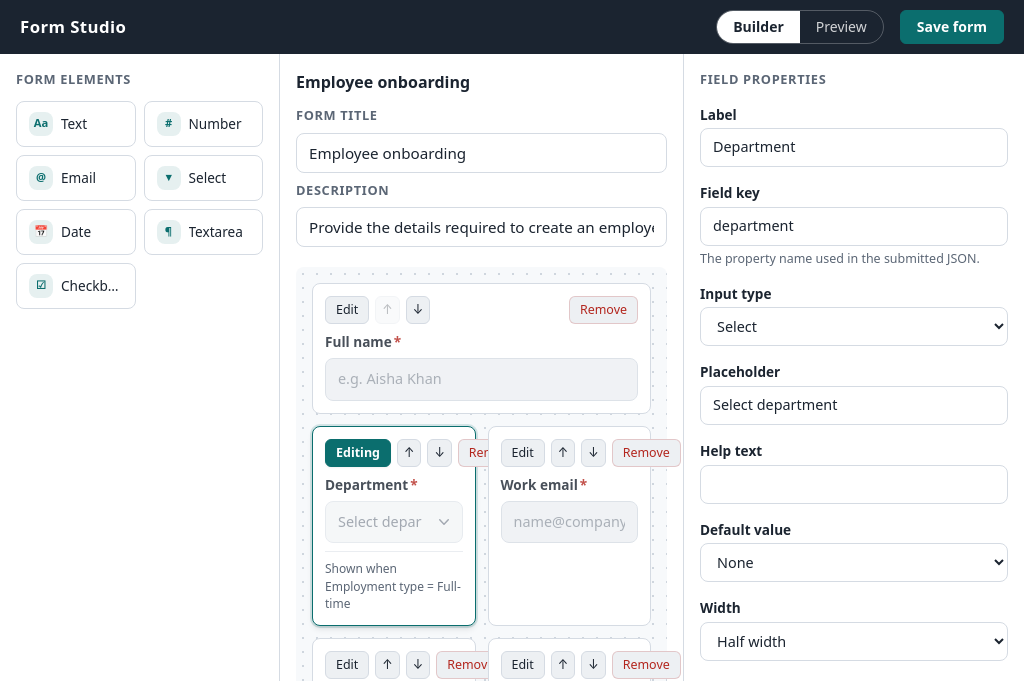
Test: App: builder › adds a field, edits it, and the canvas updates immediately
Click the button with aria-label "Add Number field" at (203, 124), box [144, 100, 263, 146]
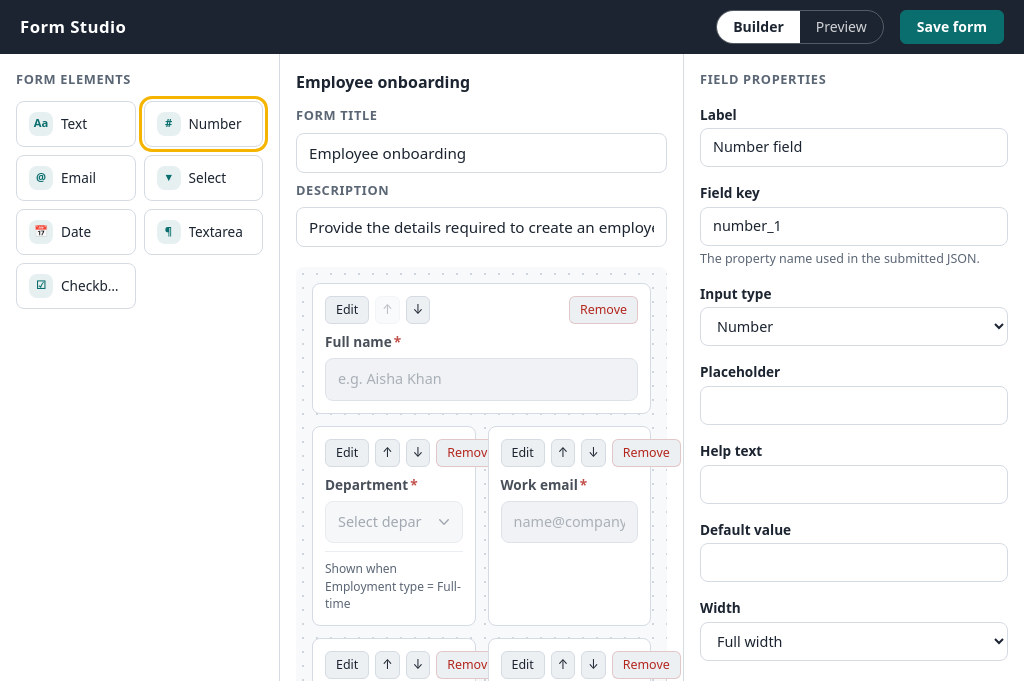
Now the field labelled "Label" holds "Number field"
Now the field labelled "Field key" holds "number_1", box [700, 207, 1008, 246]
Clear the field labelled "Label" at (854, 148), box [700, 128, 1008, 167]
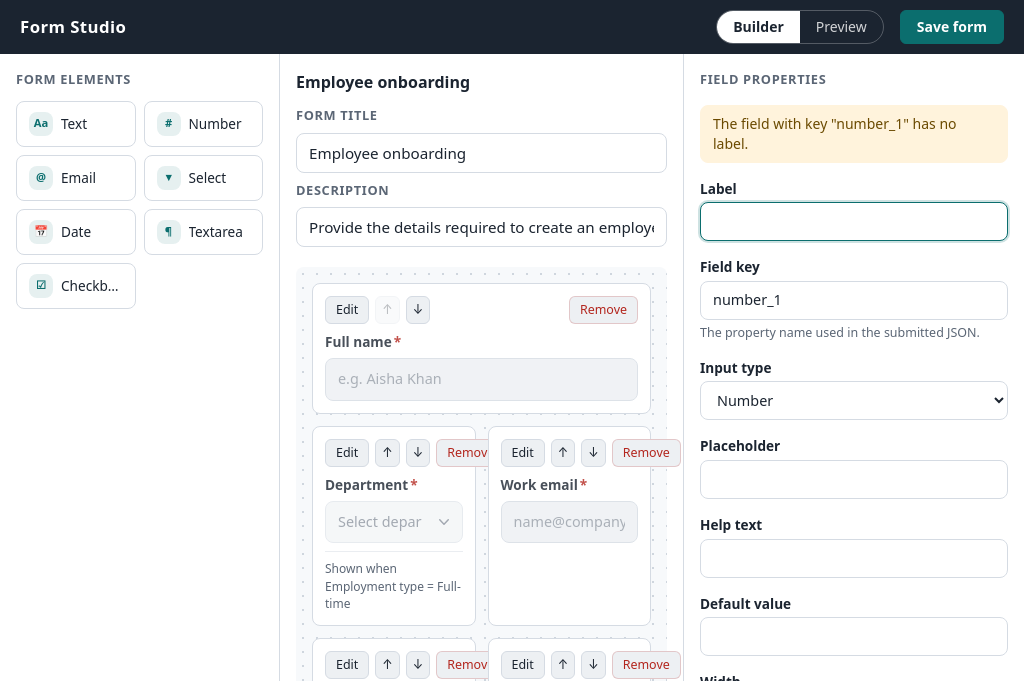
Type "Salary band" into the field labelled "Label" at (854, 222), box [700, 202, 1008, 241]
(page scrolled)
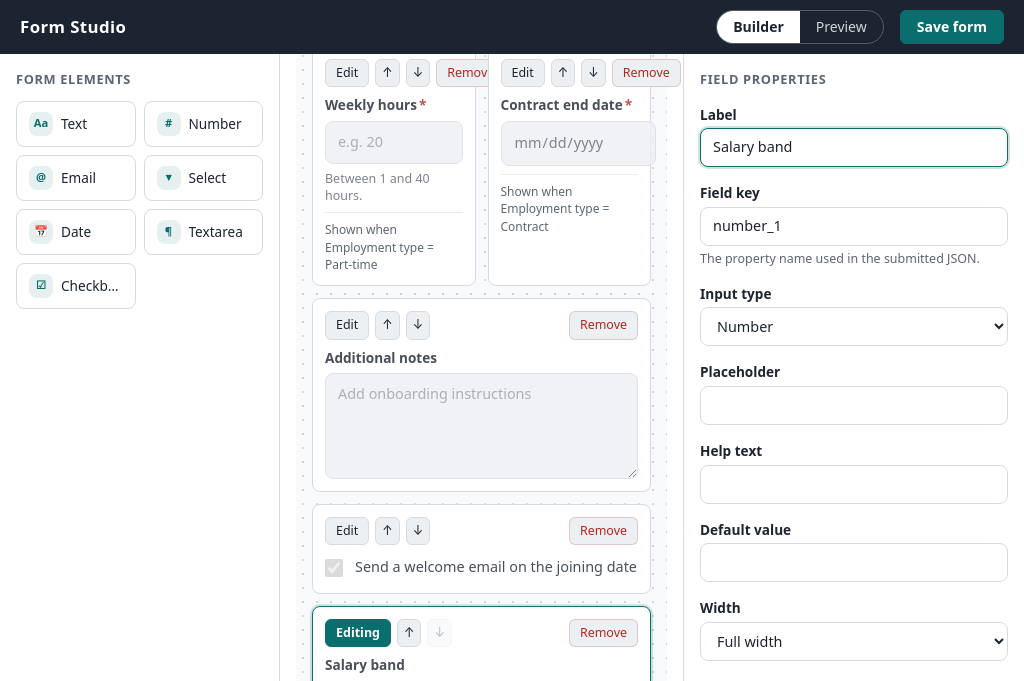
Now the button with aria-label "Edit Salary band" is shown, box [325, 619, 391, 647]
